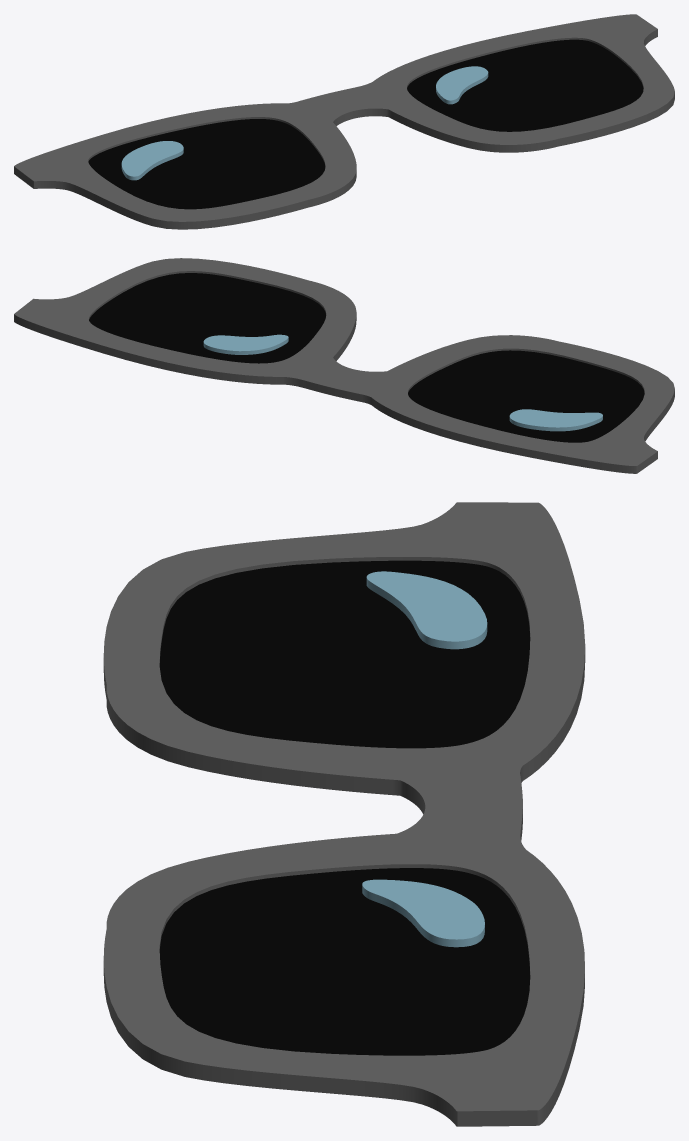
Rendered from emoji_u1f576.glb.
The picture shows the model from 3 angles, top to bottom: view 1: azimuth 30°, elevation 25°; view 2: azimuth 150°, elevation 25°; view 3: azimuth 270°, elevation 25°; orthographic projection. The views are drawn at different scales.
Parts seen in each view (by area): view 1: emoji_u1f576; view 2: emoji_u1f576; view 3: emoji_u1f576.
Boxes of the visible parts, box(x1,y1,x2,y2) form: emoji_u1f576: box(14, 14, 674, 229); emoji_u1f576: box(14, 258, 674, 473); emoji_u1f576: box(103, 502, 585, 1126).
Bounding box in the file's own units: 0.0338 × 0.0006 × 0.0113.
